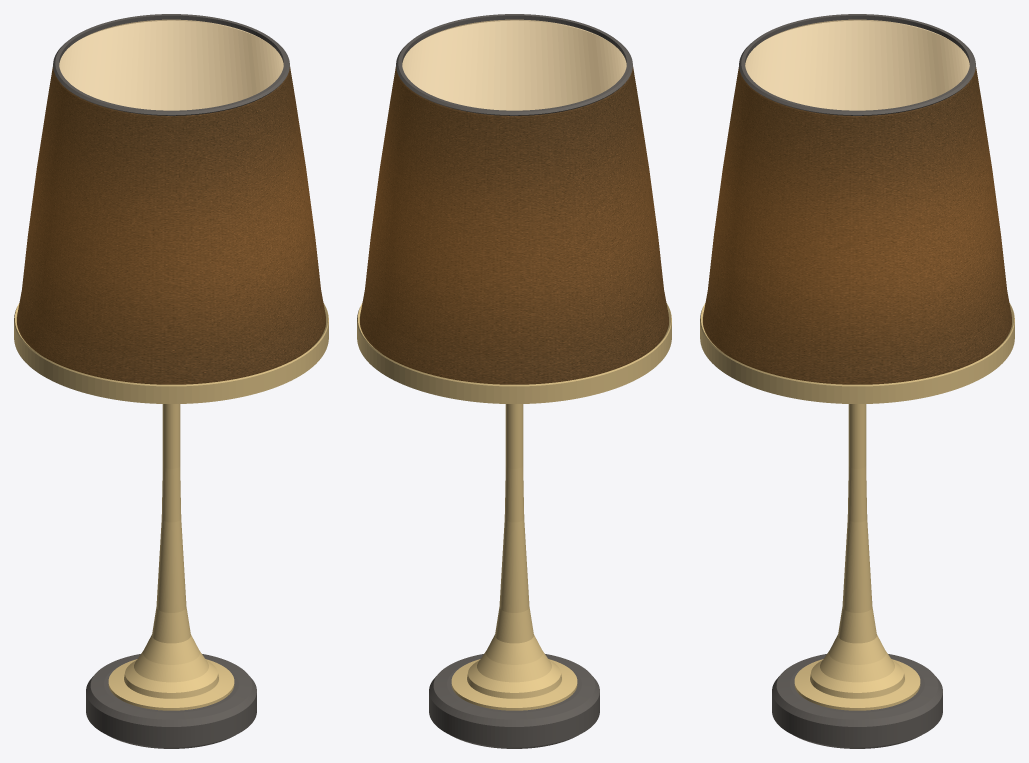
The model's file is giselle.glb.
3 views of the same model, side by side, from view 1: azimuth 30°, elevation 25°; view 2: azimuth 150°, elevation 25°; view 3: azimuth 270°, elevation 25° (orthographic).
Parts seen in each view (by area): view 1: Pantalla negra, Forro interior, Pie dorado curvo, Base negra, Aro inferior dorado, Aro superior oscuro, Borde dorado base; view 2: Pantalla negra, Forro interior, Pie dorado curvo, Base negra, Aro inferior dorado, Aro superior oscuro, Borde dorado base; view 3: Pantalla negra, Forro interior, Pie dorado curvo, Base negra, Aro inferior dorado, Aro superior oscuro, Borde dorado base.
Boxes of the visible parts, x1,y1,x2,y2 form: Pantalla negra: (17, 67, 325, 384); Forro interior: (59, 19, 283, 110); Pie dorado curvo: (124, 404, 218, 698); Base negra: (86, 654, 256, 748); Aro inferior dorado: (14, 303, 328, 403); Aro superior oscuro: (53, 14, 289, 115); Borde dorado base: (108, 659, 234, 710); Pantalla negra: (360, 67, 668, 384); Forro interior: (402, 19, 626, 110); Pie dorado curvo: (467, 404, 561, 698); Base negra: (429, 654, 599, 748); Aro inferior dorado: (357, 303, 671, 403); Aro superior oscuro: (396, 14, 632, 115); Borde dorado base: (451, 659, 577, 710); Pantalla negra: (703, 67, 1011, 384); Forro interior: (745, 19, 969, 110); Pie dorado curvo: (810, 404, 904, 698); Base negra: (772, 654, 942, 748); Aro inferior dorado: (700, 303, 1014, 403); Aro superior oscuro: (739, 14, 975, 115); Borde dorado base: (794, 659, 920, 710).
Bounding box in the file's own units: 0.21 × 0.48 × 0.21.
Materials: 6 (1 with a texture image).
